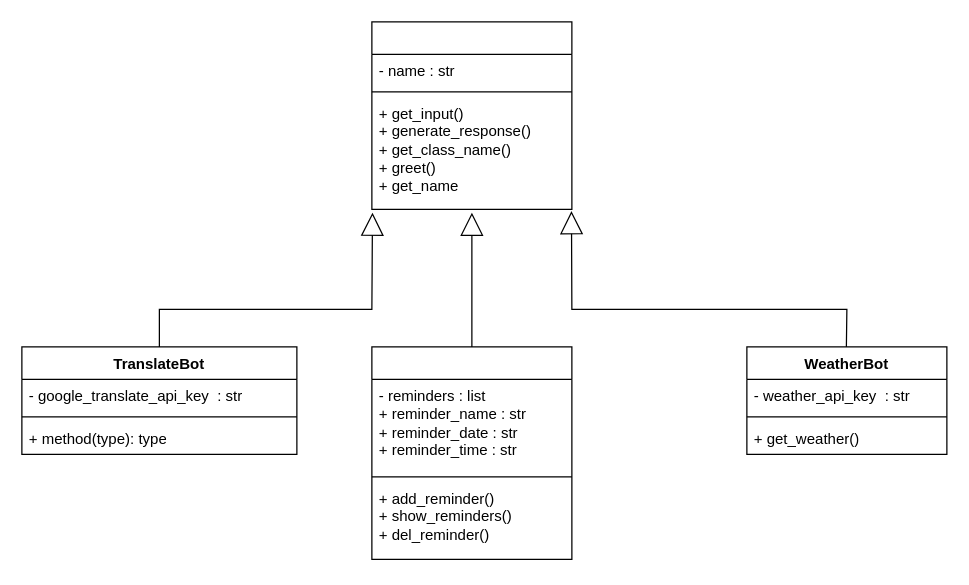
This 969x585 diagram has some shape labels left out. Each missing label, with the box of its shape:
Chatbot: (371, 21, 572, 209)
ReminderBot: (371, 346, 572, 559)
